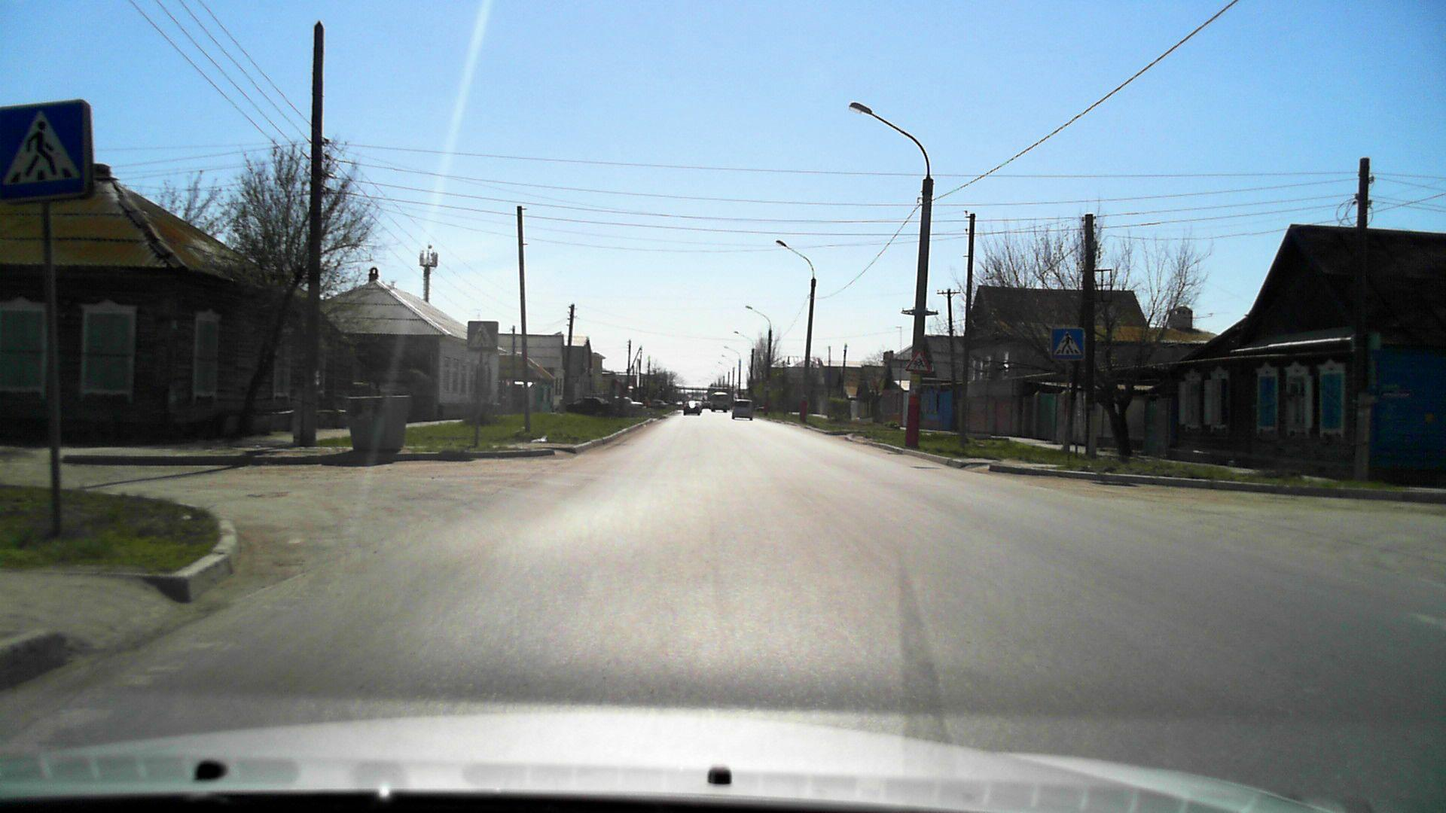road_sign: (1, 95, 92, 209), (1050, 327, 1086, 361), (468, 320, 498, 353), (904, 349, 932, 373)
